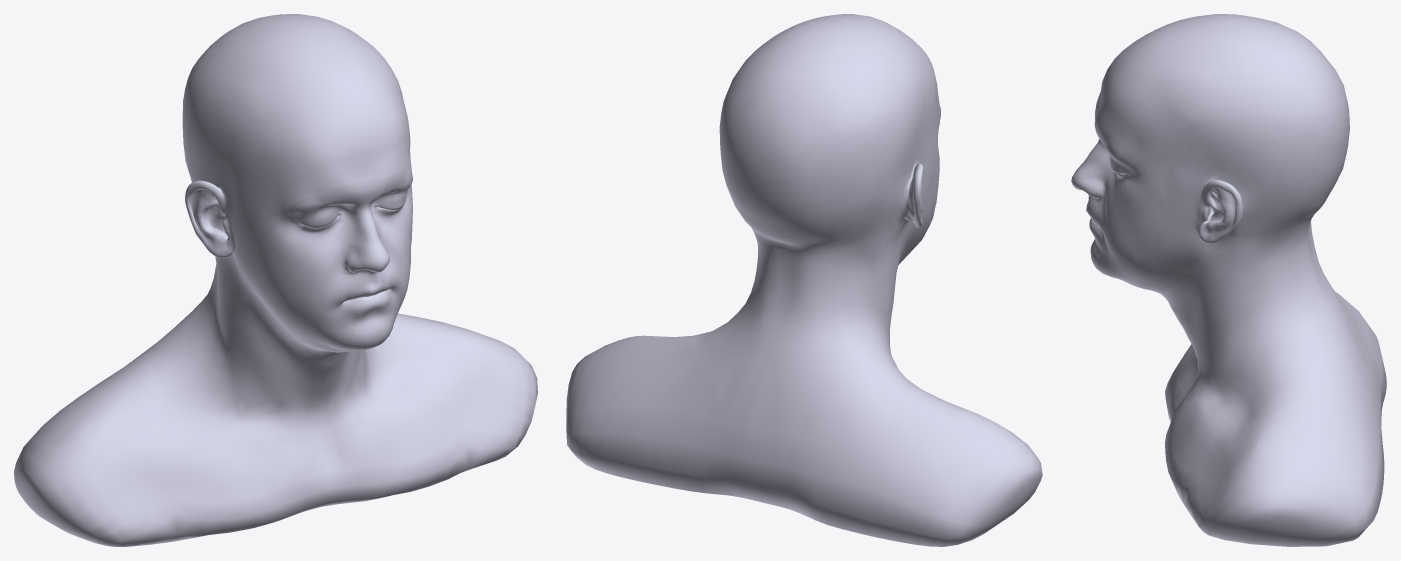
Rendered from head-scan.glb.
The picture shows the model from 3 angles, left to right: view 1: azimuth 30°, elevation 25°; view 2: azimuth 150°, elevation 25°; view 3: azimuth 270°, elevation 25°; orthographic projection. The views are drawn at different scales.
Visible parts, largest first — view 1: LeePerrySmith; view 2: LeePerrySmith; view 3: LeePerrySmith.
Part boxes in pixels (left/top/right/bottom): LeePerrySmith: left=14, top=14, right=537, bottom=546; LeePerrySmith: left=566, top=14, right=1042, bottom=546; LeePerrySmith: left=1071, top=14, right=1386, bottom=546.
Size of the model in its own units: 8.55 by 7.95 by 5.18.
